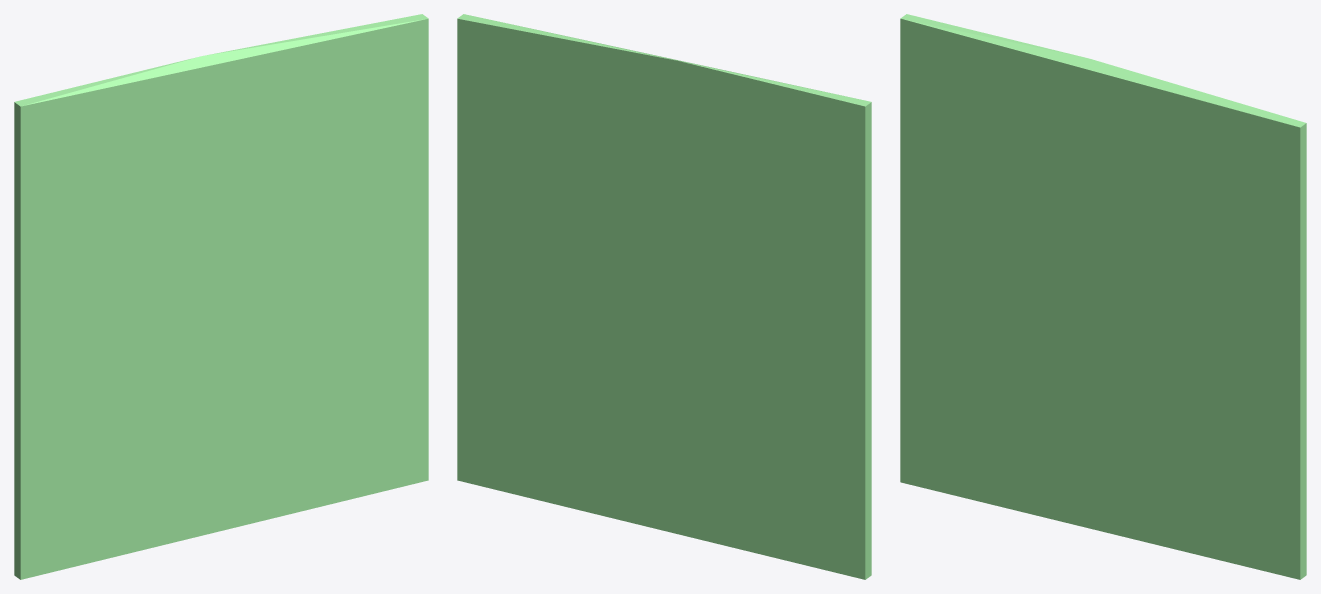
File: rambler_robot_base_coll_48.dae
3 renders of one model, left to right at view 1: azimuth 30°, elevation 25°; view 2: azimuth 150°, elevation 25°; view 3: azimuth 330°, elevation 25°, orthographic. The views are drawn at different scales.
Visible parts, largest first — view 1: Node_0x7fe100285c80; view 2: Node_0x7fe100285c80; view 3: Node_0x7fe100285c80.
Boxes of the visible parts, box(x1,y1,x2,y2) form: Node_0x7fe100285c80: box(14, 14, 428, 579); Node_0x7fe100285c80: box(457, 14, 871, 579); Node_0x7fe100285c80: box(900, 14, 1306, 579).
Bounding box in the file's own units: 0.5064 × 0.5612 × 0.0137.
